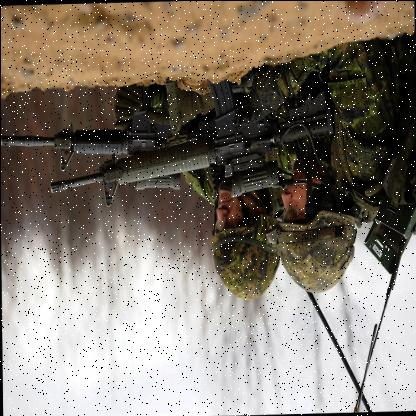rifle: (49, 66, 331, 192)
